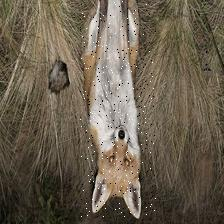fox: (80, 0, 157, 220)
